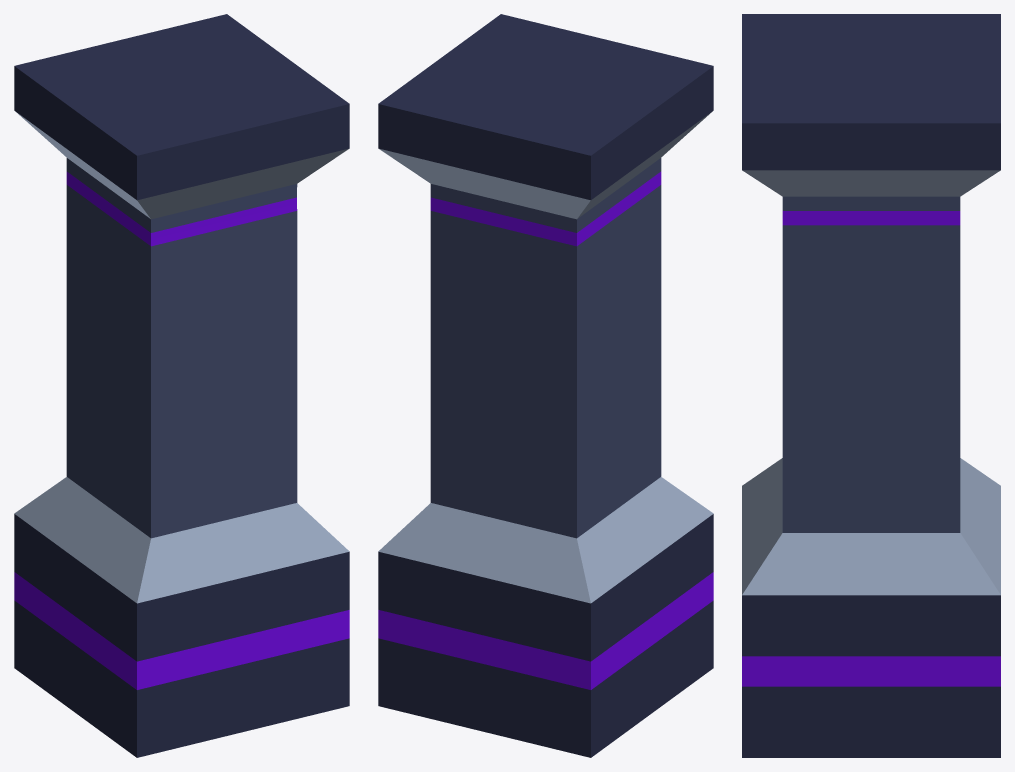
The model's file is darkPillar.fbx.
3 renders of one model, left to right at view 1: azimuth 30°, elevation 25°; view 2: azimuth 150°, elevation 25°; view 3: azimuth 270°, elevation 25°, orthographic. The views are drawn at different scales.
Parts seen in each view (by area): view 1: Cube.023; view 2: Cube.023; view 3: Cube.023.
Part boxes in pixels (bbox=[...]): Cube.023: bbox=[14, 14, 349, 757]; Cube.023: bbox=[378, 14, 713, 757]; Cube.023: bbox=[742, 14, 1000, 757].
Size of the model in its own units: 200 by 541 by 200.
